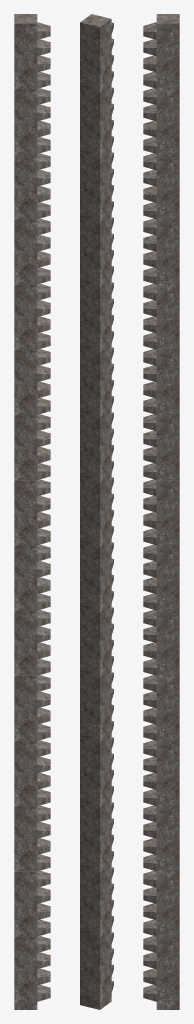
File: GearRail_long.fbx
3 renders of one model, left to right at view 1: azimuth 90°, elevation 25°; view 2: azimuth 150°, elevation 25°; view 3: azimuth 270°, elevation 25°, orthographic.
Visible parts, largest first — view 1: GearRail_long; view 2: GearRail_long; view 3: GearRail_long.
Boxes of the visible parts, x1,y1,x2,y2 form: GearRail_long: [14, 14, 50, 1009]; GearRail_long: [80, 14, 113, 1009]; GearRail_long: [143, 14, 179, 1009].
Bounding box in the file's own units: 10 × 472 × 15.7.
Materials: 1 (1 with a texture image).
